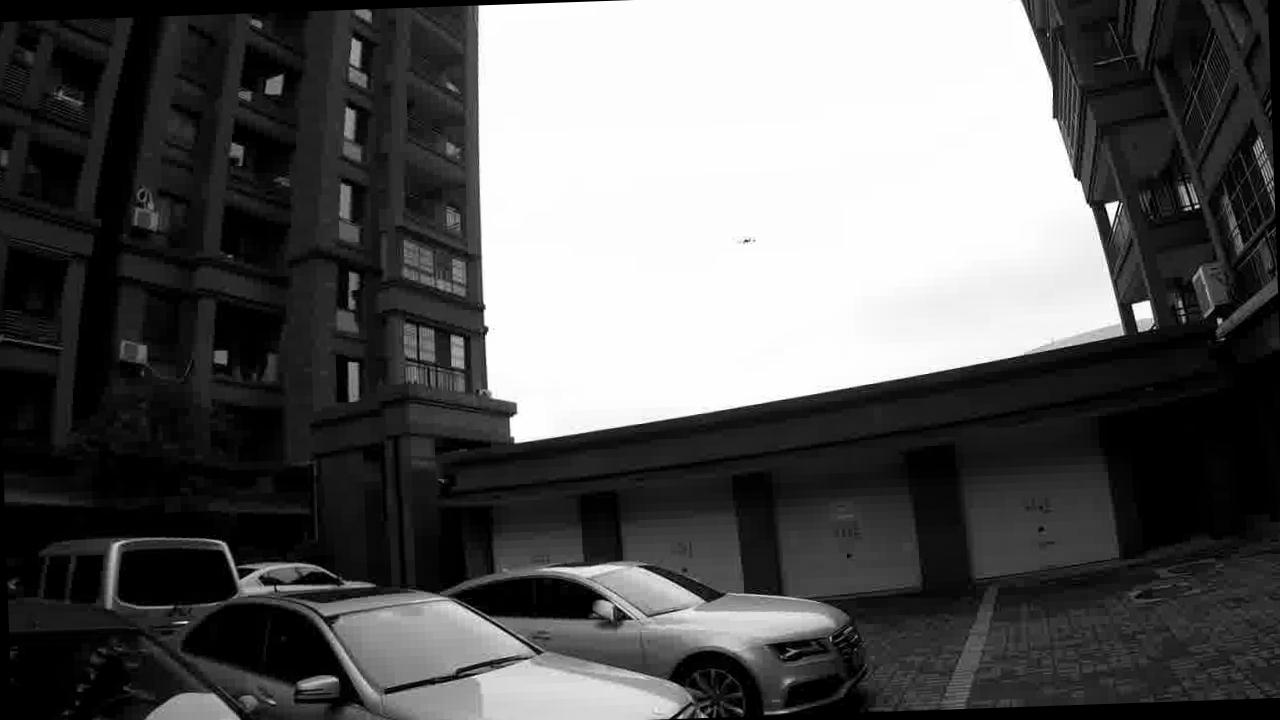drone: (711, 202, 760, 262)
